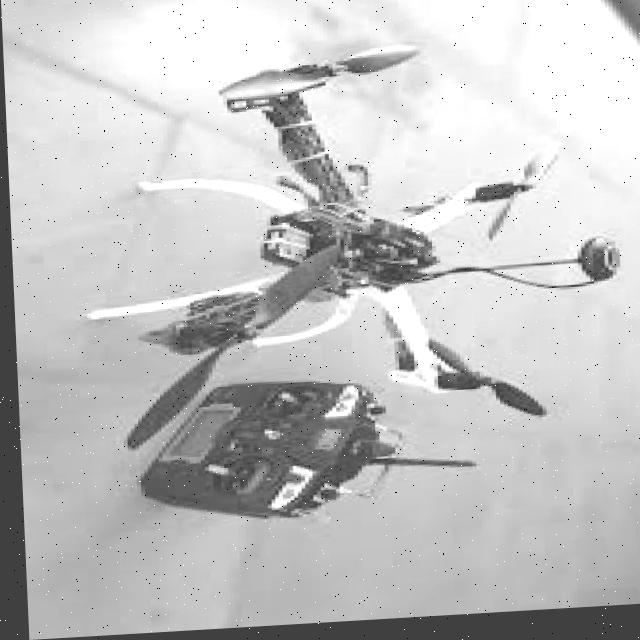drone: (68, 31, 564, 460)
